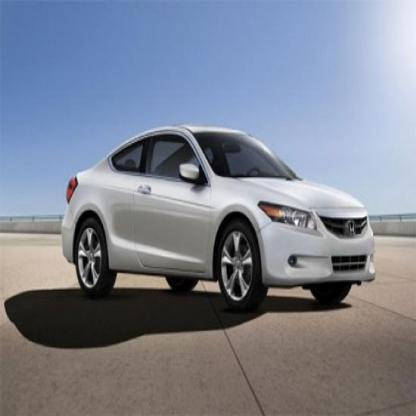Vehicle: (59, 127, 377, 310)
